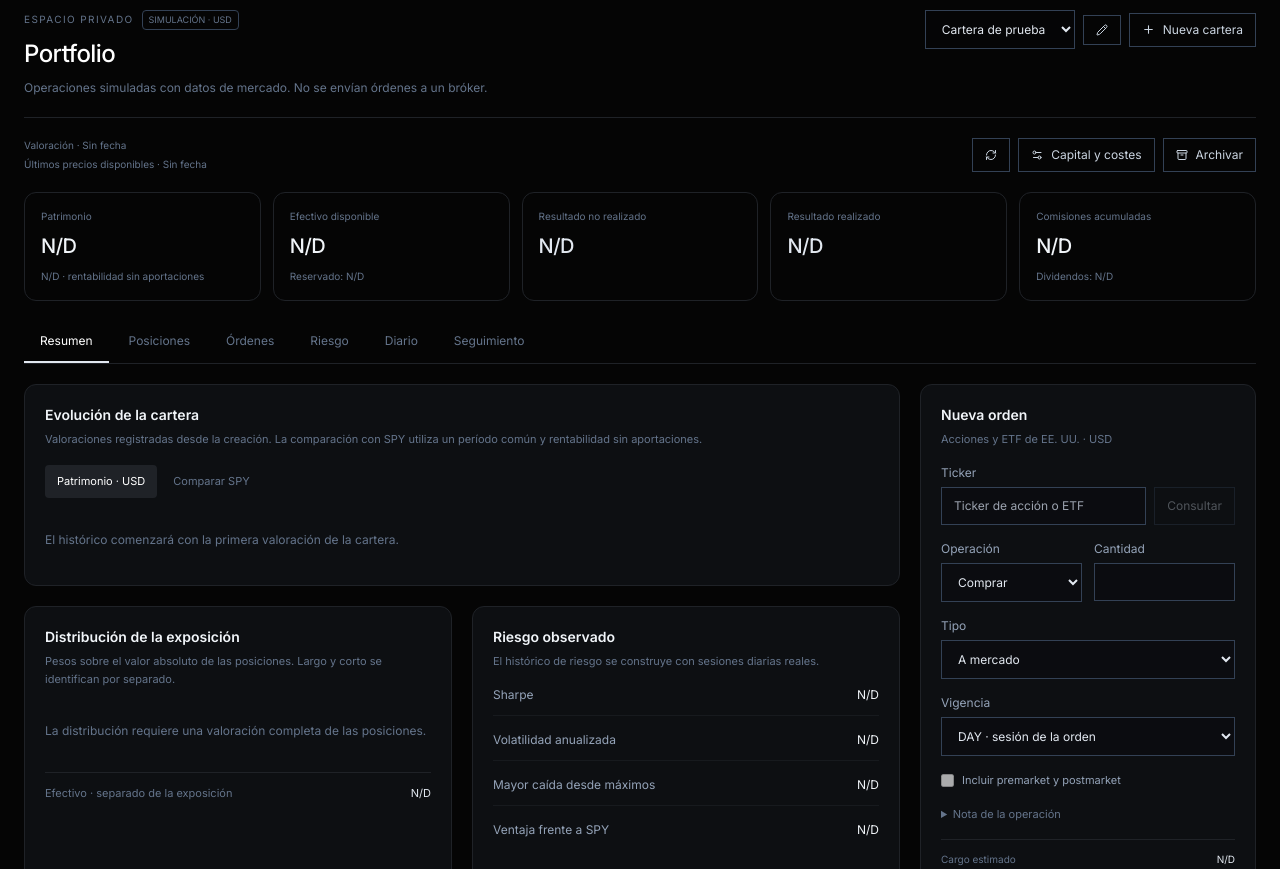
Test case: offers explicit short opening and covering with the correct cash direction
The image size is (1280, 869).
Check: the heading "Nueva orden" is shown, box [941,406,1027,423]
Type "AAPL" into the field named "Ticker para operar".
click(1044, 506); type("AAPL")  # box [941,487,1146,525]
Click the button "Consultar".
click(1195, 506)  # box [1154,487,1235,525]
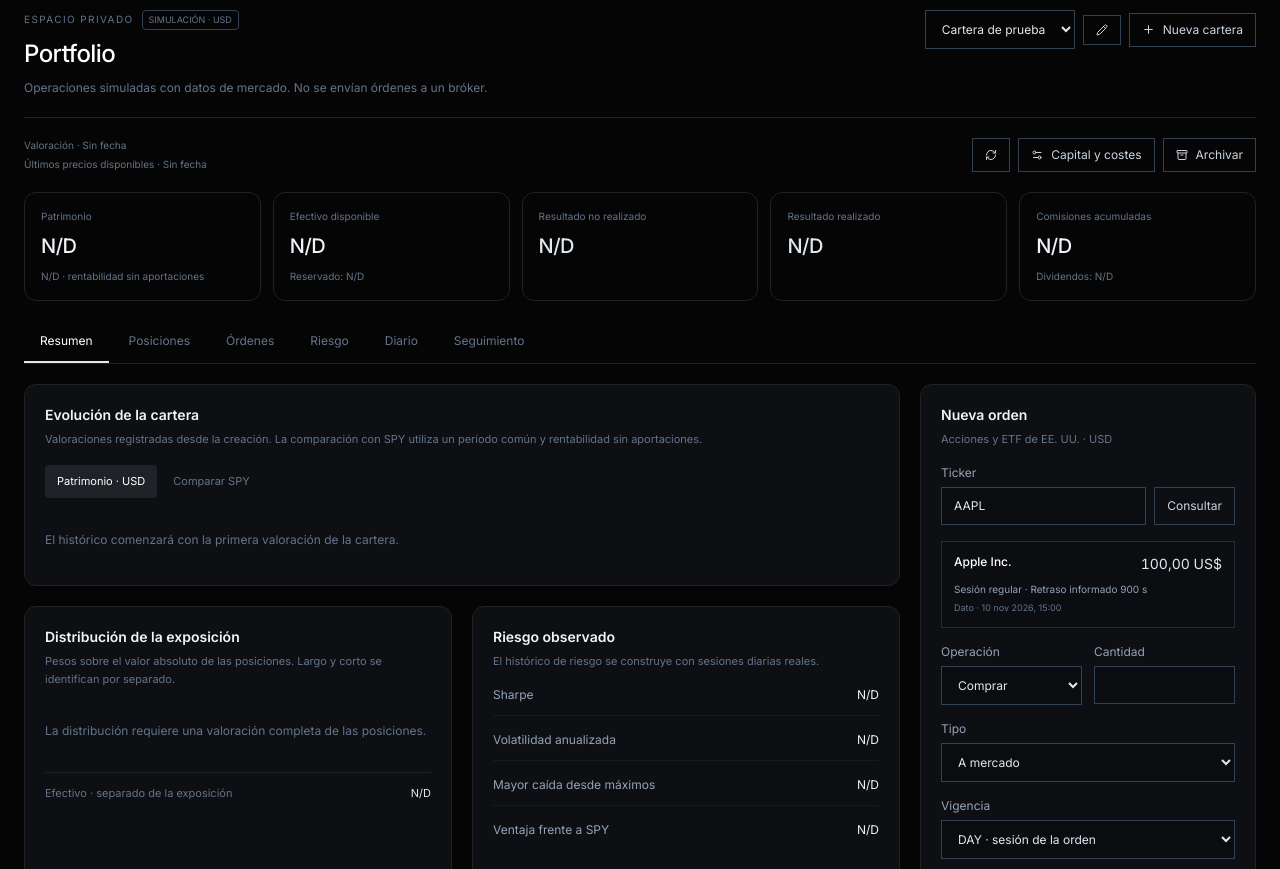
Check: the text "Apple Inc." is shown, box [954,554,1012,570]
Select "Abrir corto" in the dropdown labelled "Operación" at {"x": 1012, "y": 685}, box [941,666,1082,705]
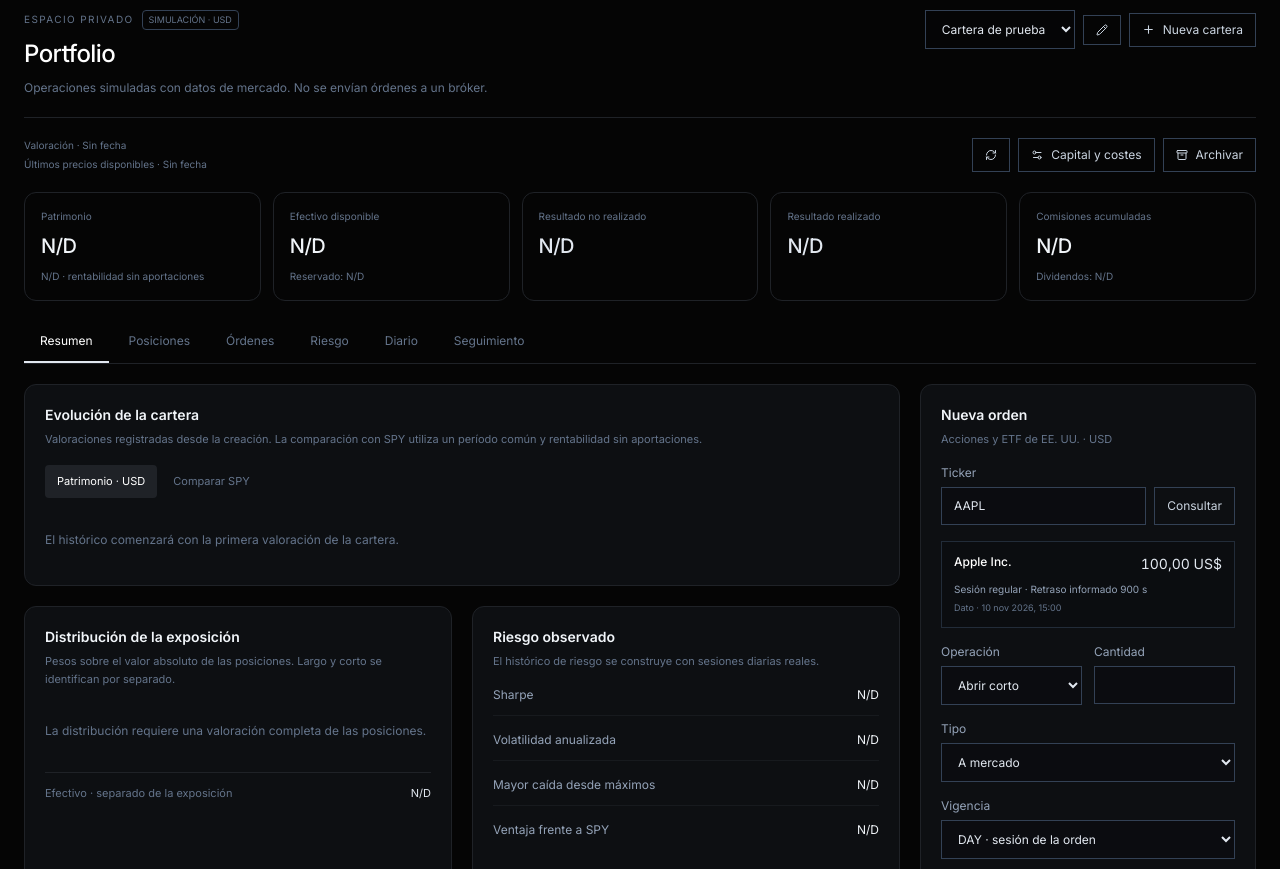
Type "2" into the number field named "Cantidad de la orden".
click(1164, 685); type("2")  # box [1094,666,1235,704]
(page scrolled)
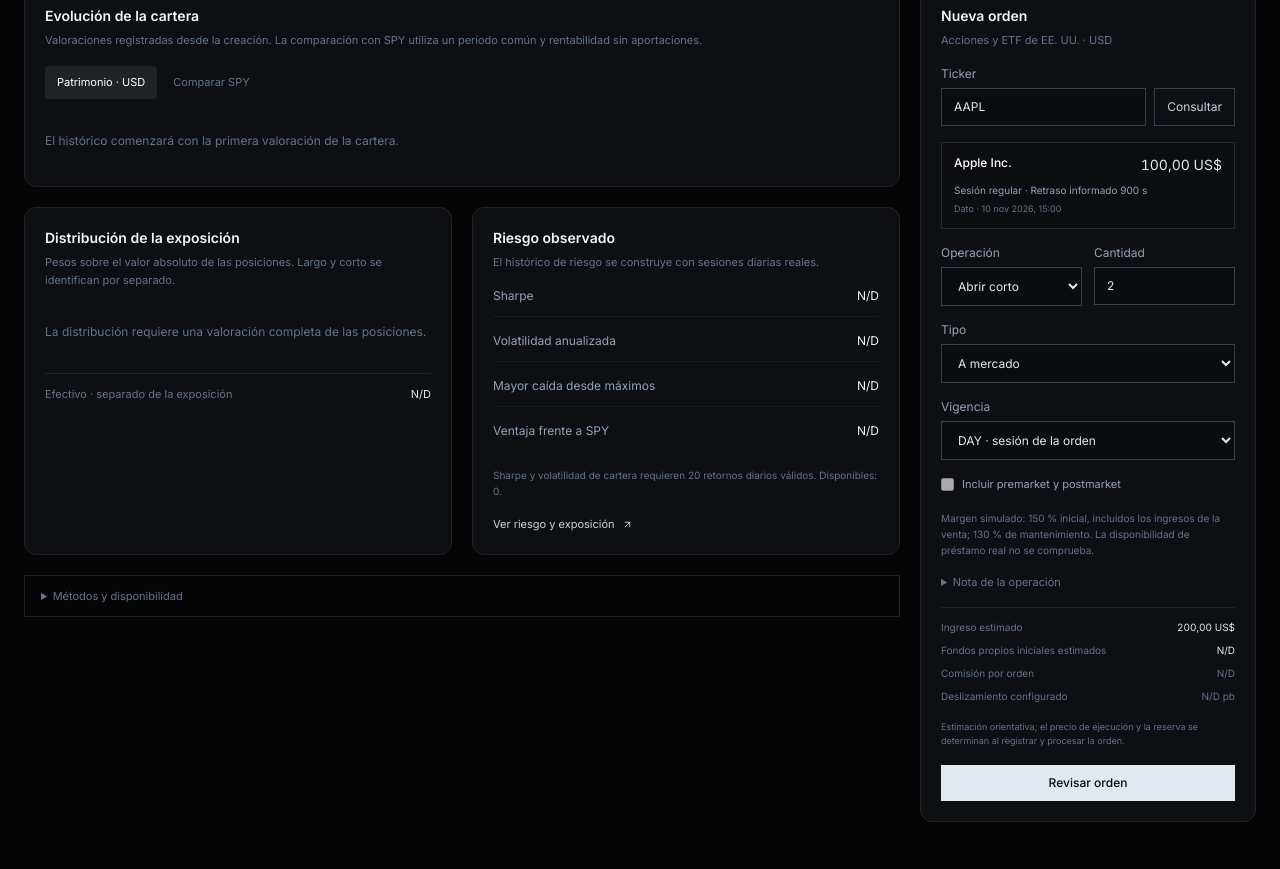
Check: the text "Ingreso estimado" is shown, box [941,620,1022,635]
Check: the text "Fondos propios iniciales estimados" is shown, box [941,643,1106,658]
Check: the text "Margen simulado: 150 %" is shown, box [941,512,1220,556]
Click the button "Revisar orden".
click(1088, 783)  # box [941,765,1235,801]
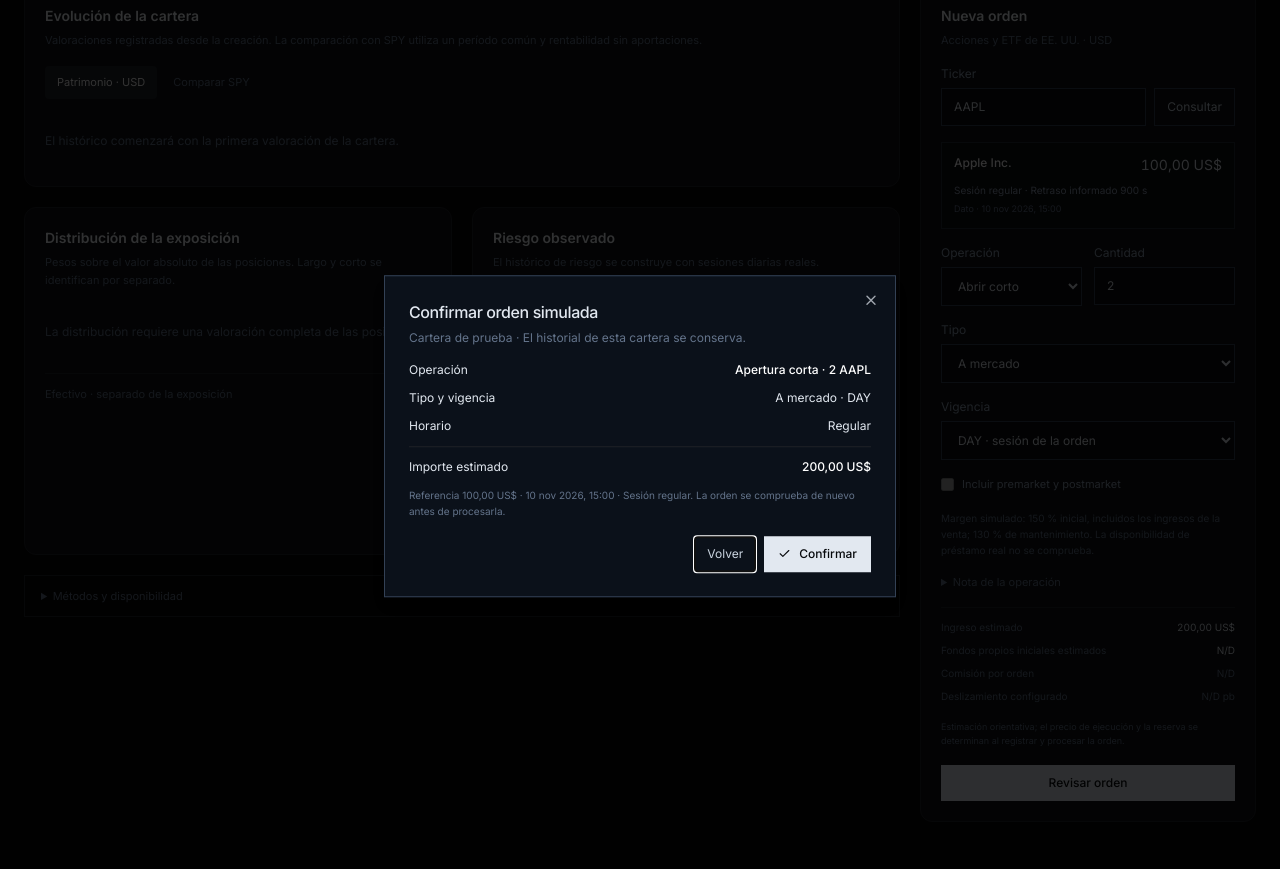
Check: the text "Apertura corta · 2 AAPL" is shown, box [735,362,871,378]
Click the button "Confirmar".
click(818, 554)  # box [764,536,871,572]
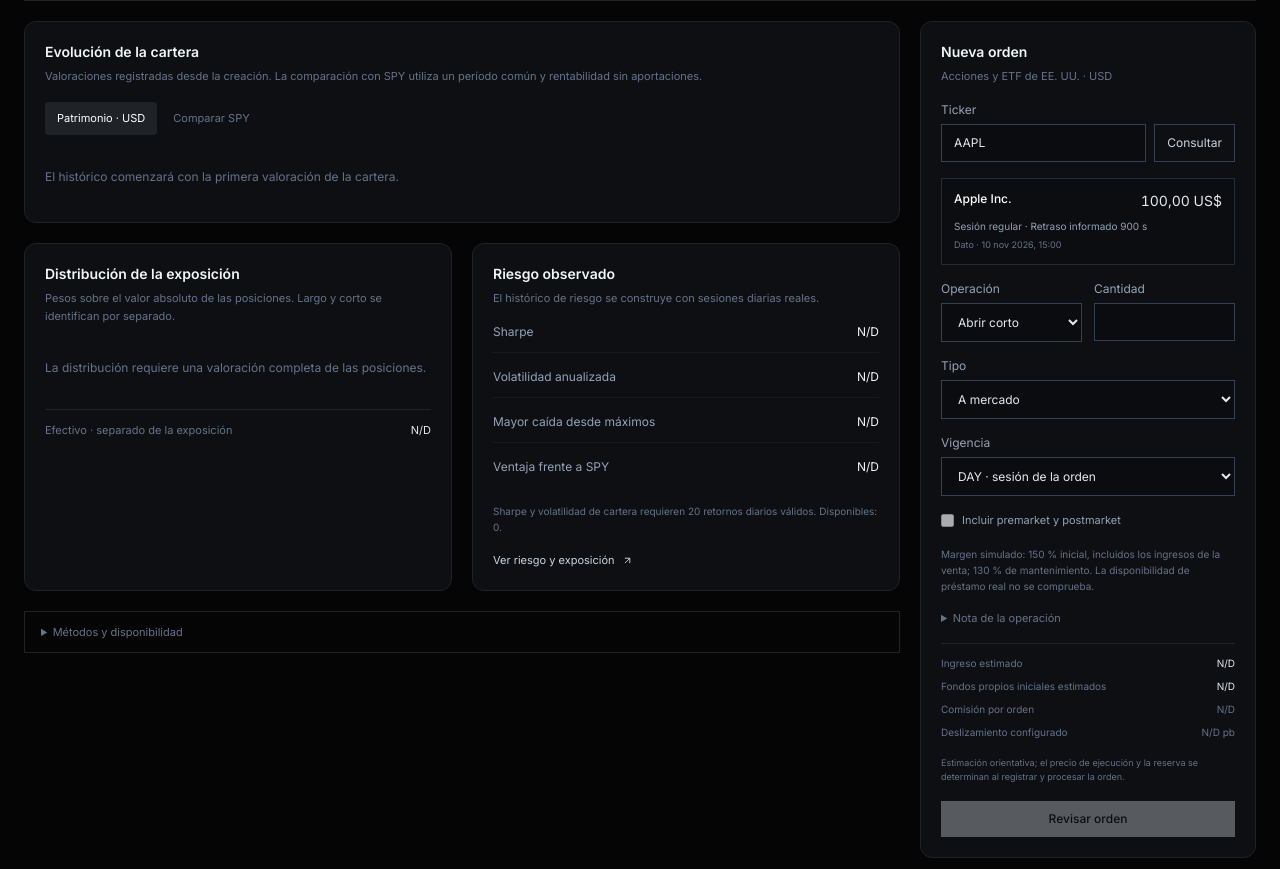
Check: the dialog is gone
Select "Cubrir corto" in the dropdown labelled "Operación" at {"x": 1012, "y": 322}, box [941,303,1082,342]
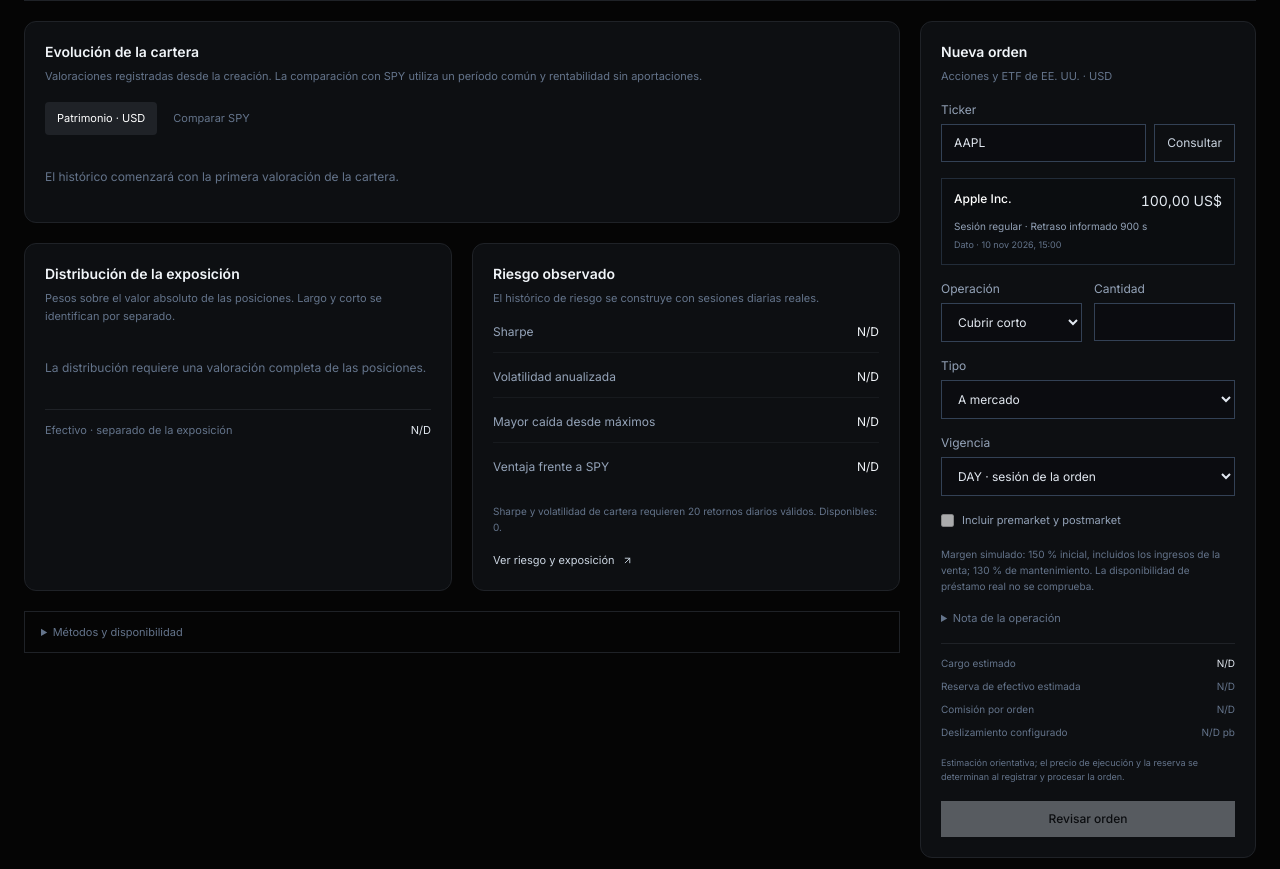
Check: the text "Cargo estimado" is shown, box [941,656,1016,671]
Check: the text "Reserva de efectivo estimada" is shown, box [941,679,1080,694]
